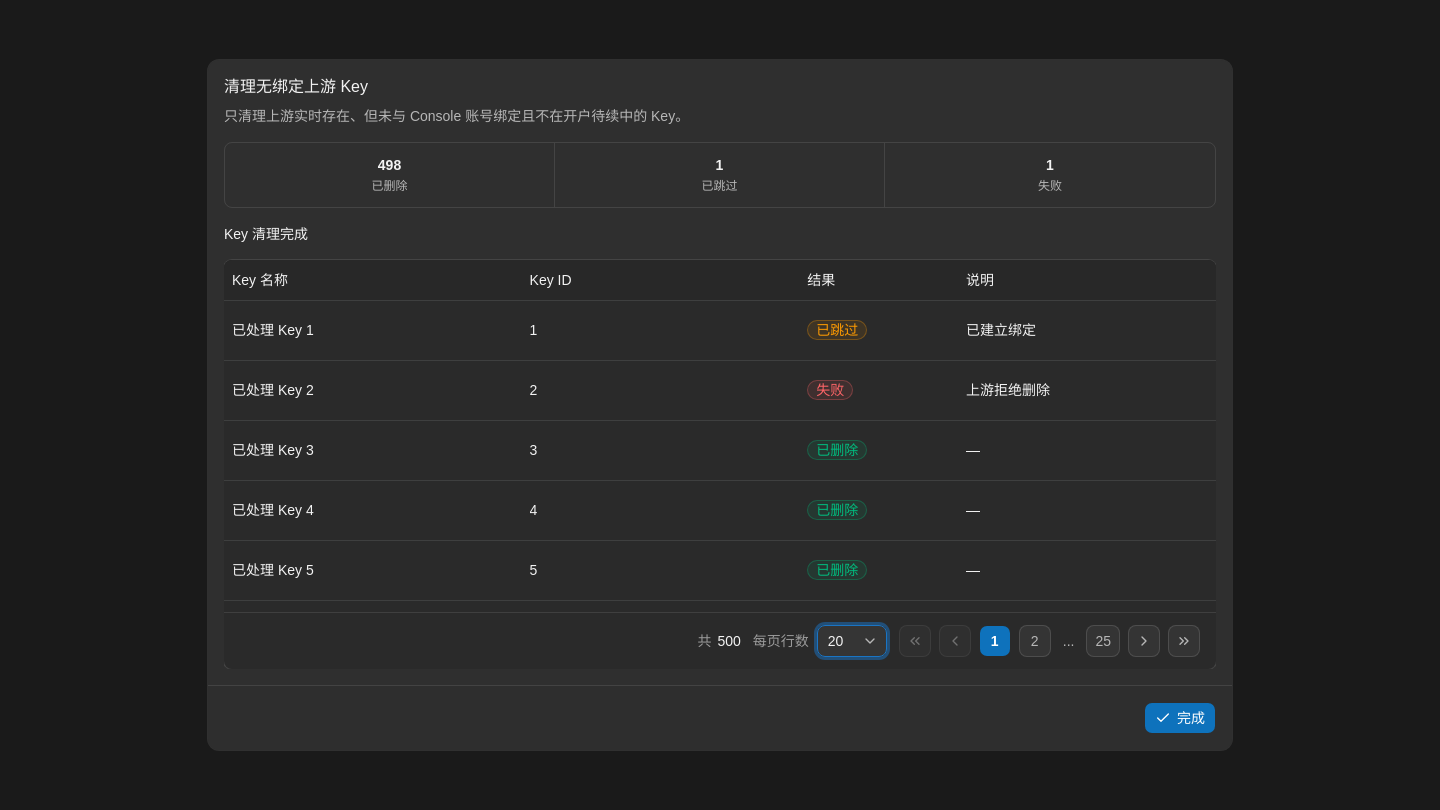
it: 500 项终态结果分页展示，末页仍能查看最后一项
What coordinates should you click on to do the following:
click the button named "转到最后一页"
I would click on:
 (1184, 641)
Its box is [1168,625,1200,657].
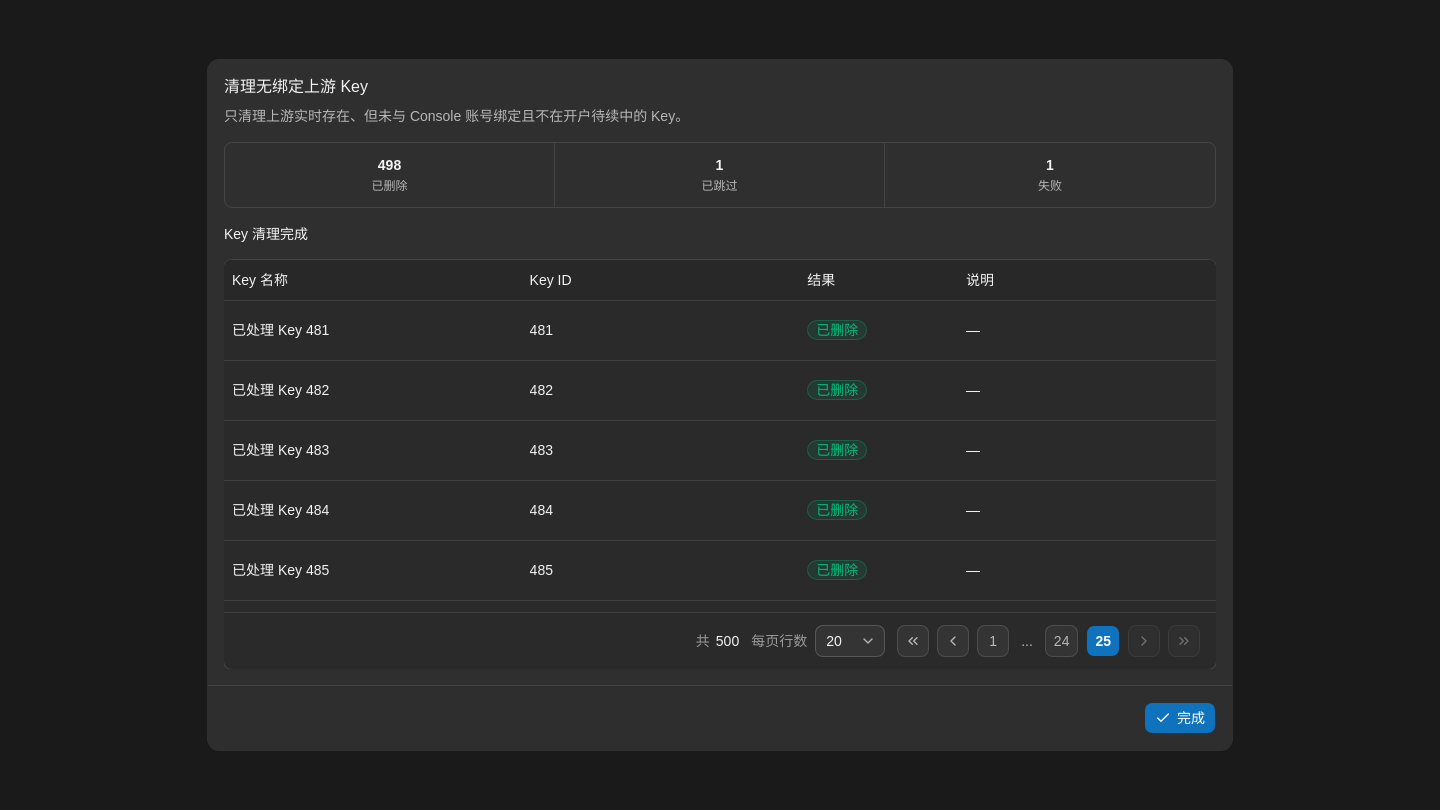
Check: the button "完成" is enabled, box [1144,702,1216,734]
Check: the text "已处理 Key 1" is gone
